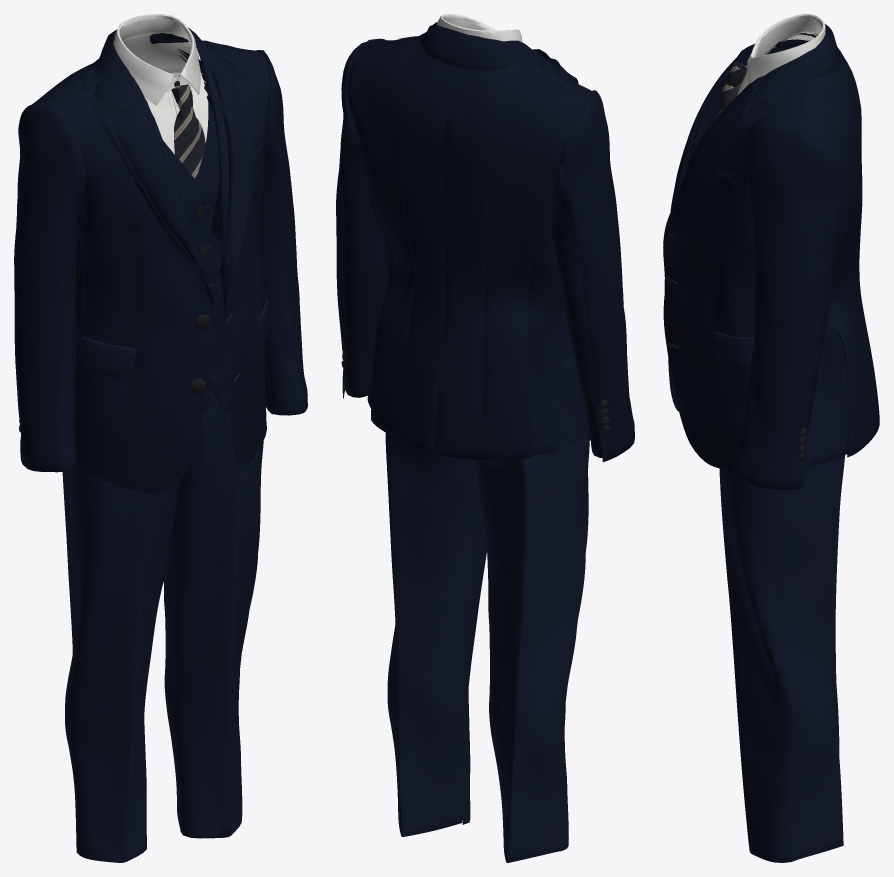
The model's file is MW_Tailleur_suit_v4_blender_collarfix4.glb.
3 renders of one model, left to right at view 1: azimuth 30°, elevation 25°; view 2: azimuth 150°, elevation 25°; view 3: azimuth 270°, elevation 25°, orthographic. The views are drawn at different scales.
Visible parts, largest first — view 1: Jacket, Trousers, Shirt, Waistcoat, Tie, Trim; view 2: Jacket, Trousers, Shirt, Waistcoat; view 3: Jacket, Trousers, Shirt, Tie.
Boxes of the visible parts, x1,y1,x2,y2 form: Jacket: (14, 27, 307, 492); Trousers: (62, 383, 263, 862); Shirt: (113, 14, 208, 154); Waistcoat: (75, 58, 231, 413); Tie: (172, 84, 205, 179); Trim: (19, 81, 210, 432); Jacket: (336, 22, 634, 462); Trousers: (385, 339, 589, 862); Shirt: (437, 14, 522, 41); Waistcoat: (414, 41, 521, 81); Jacket: (663, 24, 879, 489); Trousers: (719, 455, 845, 862); Shirt: (737, 14, 825, 95); Tie: (719, 62, 746, 114).
Bounding box in the file's own units: 0.5389 × 1.5 × 0.3678.
9 materials, 5 textured.
